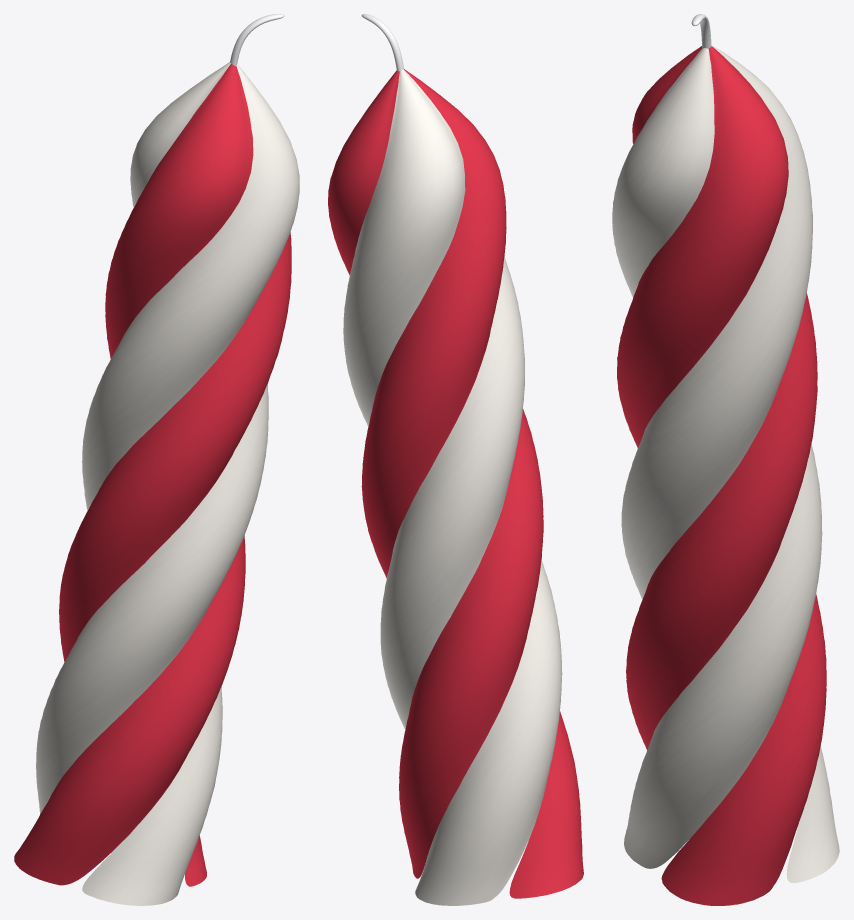
The model's file is red-candle-draco.glb.
3 views of the same model, side by side, from view 1: azimuth 30°, elevation 25°; view 2: azimuth 150°, elevation 25°; view 3: azimuth 270°, elevation 25° (orthographic). The views are drawn at different scales.
Parts seen in each view (by area): view 1: Circle.001_Circle.003; view 2: Circle.001_Circle.003; view 3: Circle.001_Circle.003.
Part boxes in pixels (x1=…): Circle.001_Circle.003: x1=14, y1=14, x2=299, y2=905; Circle.001_Circle.003: x1=328, y1=14, x2=583, y2=905; Circle.001_Circle.003: x1=612, y1=14, x2=839, y2=905.
Size of the model in its own units: 1.92 by 6.1 by 1.36.
